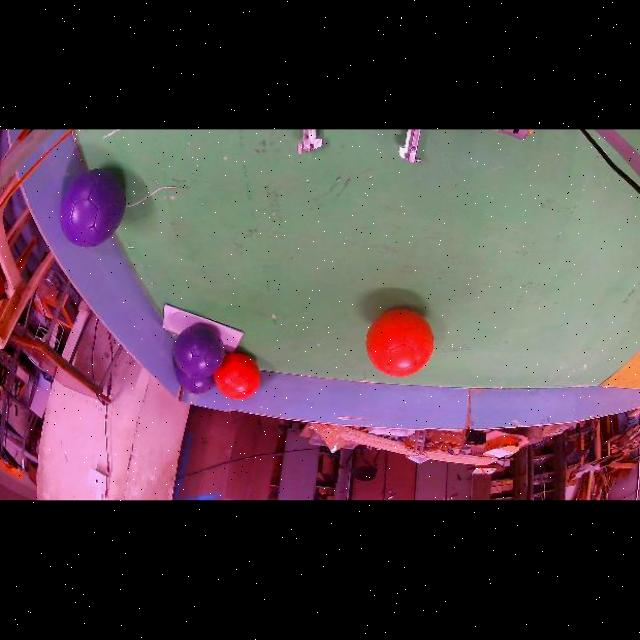P: (60, 169, 125, 247), (173, 323, 225, 378), (176, 365, 216, 393)
R: (365, 309, 434, 376), (214, 353, 261, 400)
